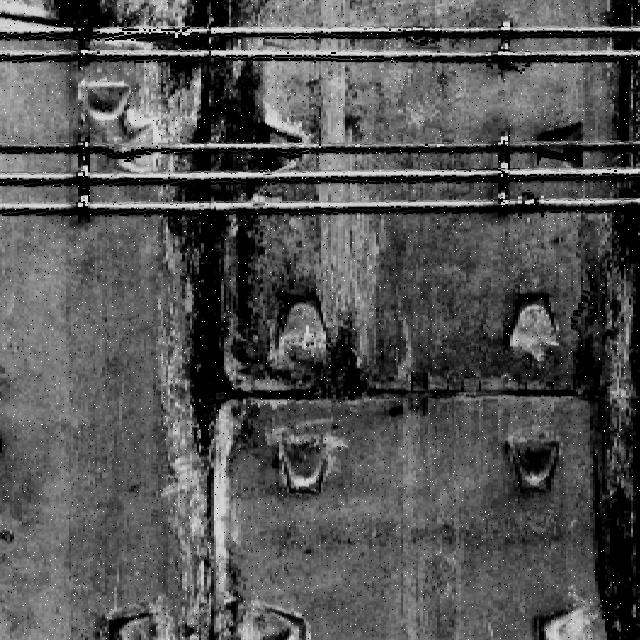leakage: (148, 3, 274, 640), (567, 3, 640, 640), (298, 68, 391, 411), (42, 1, 118, 58)
